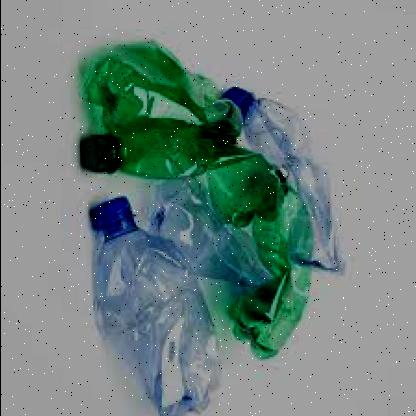Plastic Bottle: (80, 41, 344, 361), (89, 197, 222, 415), (222, 86, 346, 276), (79, 44, 242, 180), (149, 178, 273, 288)
